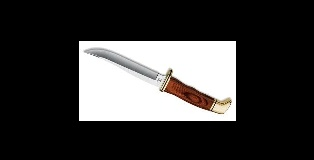k1: (83, 47, 174, 96)
